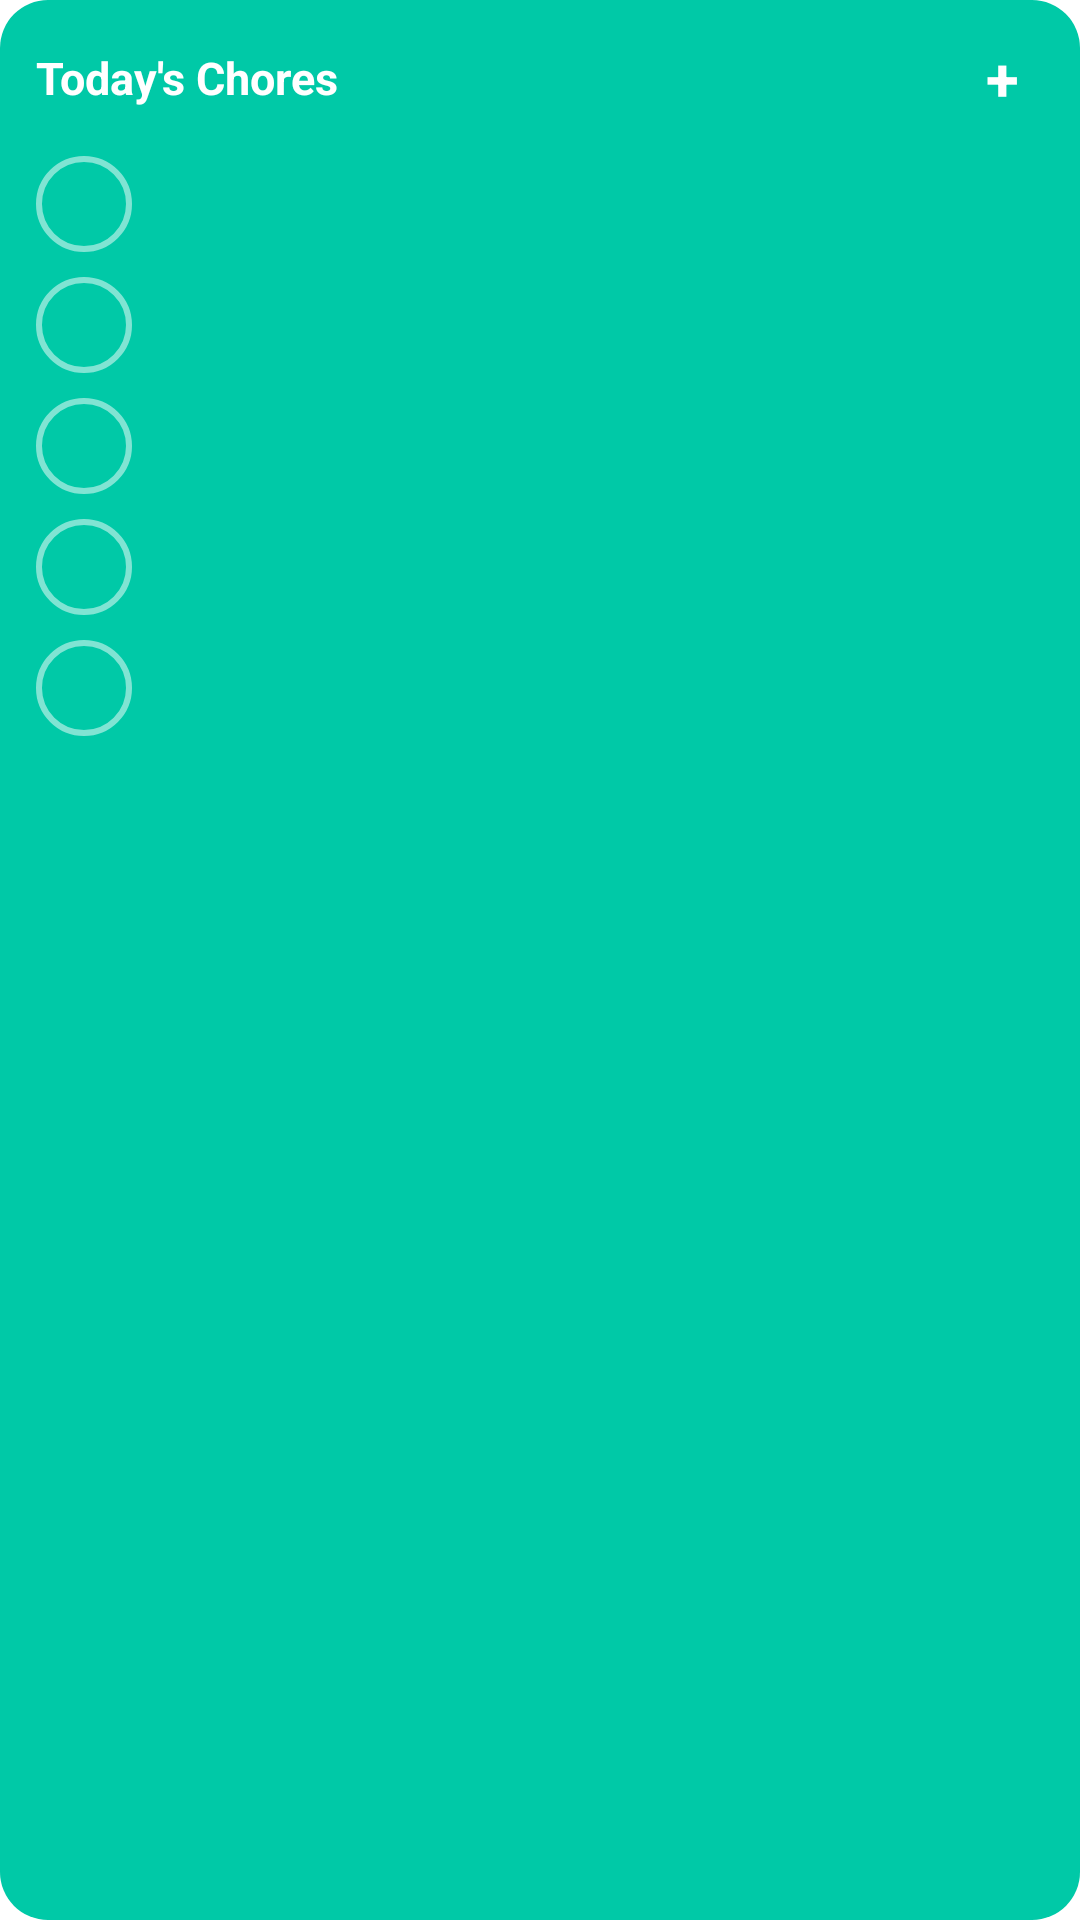

Named icons in this screenshot (1080 × 1920) and their bounding boxes, (x1, y1, x2, y2):
widget check off: (36, 156, 132, 252), (36, 277, 132, 373), (36, 398, 132, 494), (36, 519, 132, 615), (36, 640, 132, 736)
